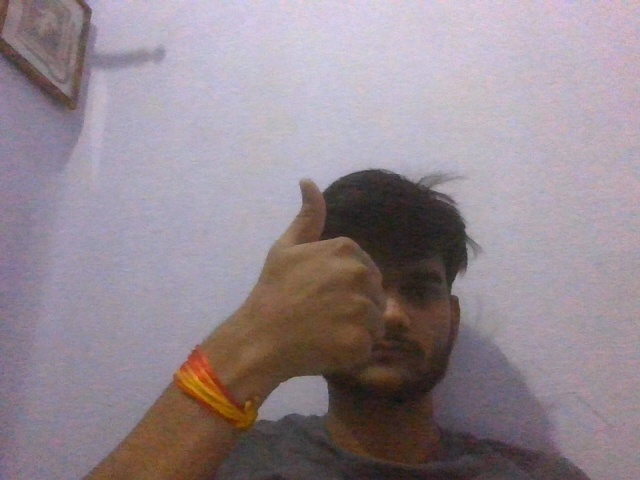thanks: (229, 156, 394, 389)
